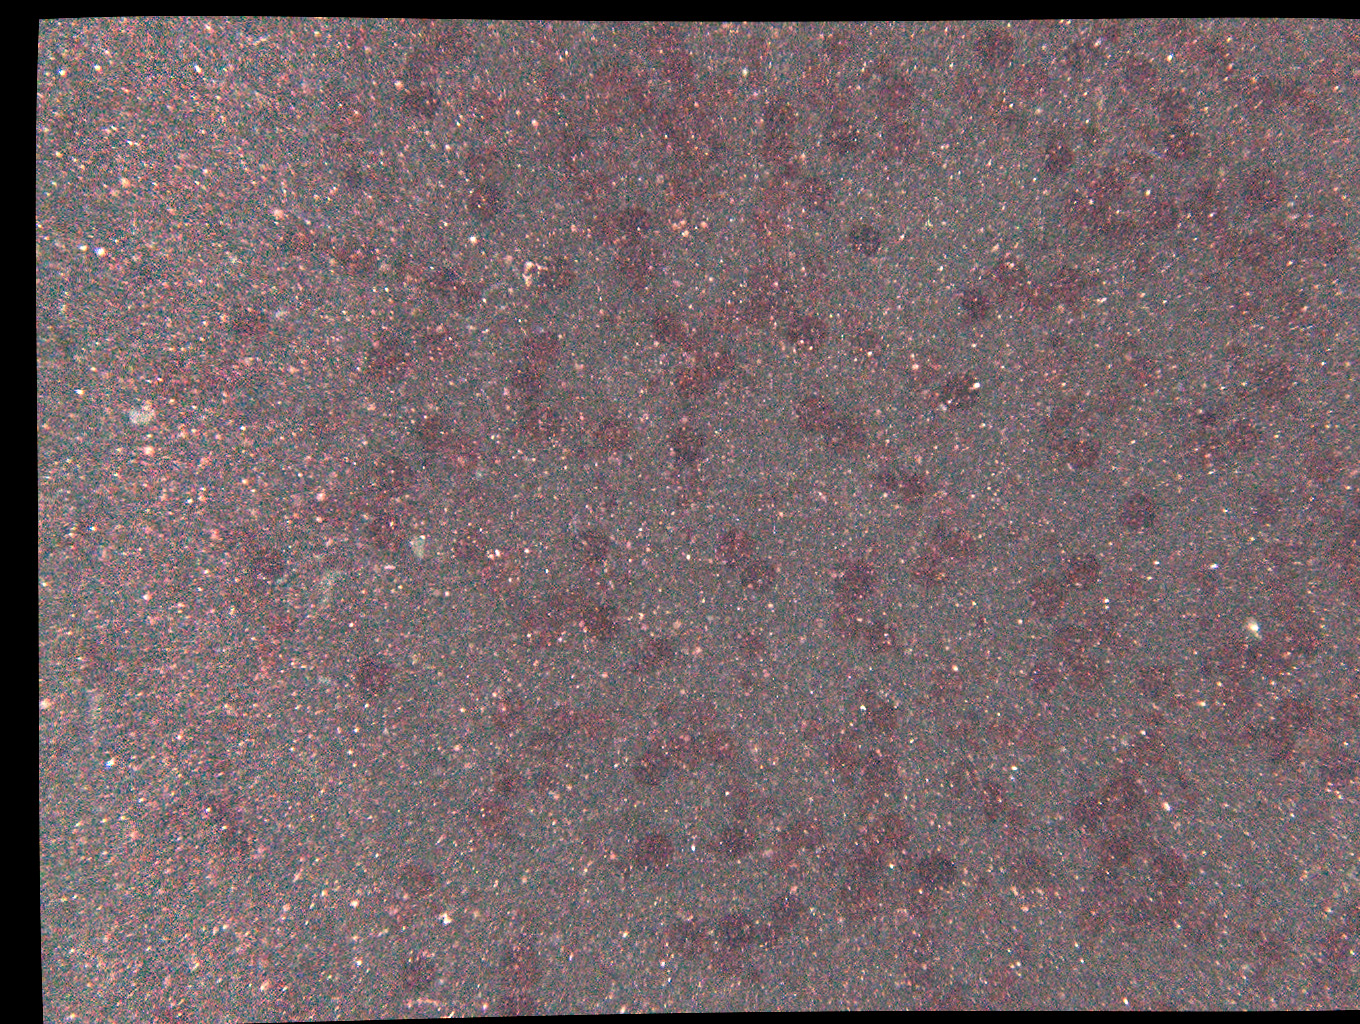Substrate A: (137, 44, 172, 79)
sand dollar: (925, 855, 972, 901), (1131, 879, 1178, 925), (1160, 854, 1207, 900), (1090, 840, 1137, 886), (1148, 657, 1196, 703), (1128, 726, 1175, 772), (1101, 771, 1148, 817), (1070, 795, 1117, 841), (1003, 853, 1050, 899), (961, 782, 1008, 828), (1019, 655, 1066, 701), (1061, 554, 1108, 600), (1056, 629, 1103, 675), (840, 612, 887, 658), (859, 693, 906, 739), (704, 913, 751, 959), (643, 924, 690, 970), (495, 977, 542, 1023), (460, 778, 507, 824), (467, 735, 514, 781), (646, 622, 693, 668), (583, 714, 630, 760), (617, 823, 664, 869), (857, 871, 904, 918), (860, 749, 907, 795), (818, 734, 865, 780), (860, 799, 907, 845), (1139, 24, 1186, 70), (1173, 893, 1220, 939), (1313, 736, 1360, 782), (1269, 679, 1316, 725), (1211, 681, 1258, 727), (1245, 635, 1292, 681), (1202, 634, 1249, 680), (1243, 352, 1290, 398), (1228, 415, 1275, 461), (1190, 425, 1237, 471), (1232, 484, 1279, 530), (1117, 498, 1164, 544), (1057, 430, 1104, 477), (1022, 566, 1069, 612), (764, 891, 811, 937), (391, 951, 438, 997), (478, 680, 525, 726), (778, 805, 825, 851), (1279, 430, 1326, 477), (937, 760, 985, 806), (732, 929, 779, 975), (485, 944, 532, 990), (524, 716, 571, 762), (675, 730, 722, 776), (632, 745, 679, 791), (724, 817, 771, 863), (846, 831, 893, 877), (1270, 587, 1317, 632), (1196, 49, 1243, 95), (1058, 362, 1105, 408), (1264, 715, 1311, 760), (643, 40, 689, 84), (664, 423, 707, 468), (917, 555, 960, 600), (940, 521, 983, 566), (832, 550, 875, 595), (664, 203, 707, 248), (850, 322, 893, 367), (835, 215, 878, 260), (353, 652, 396, 697), (467, 552, 510, 597), (527, 610, 570, 655), (584, 602, 627, 648), (742, 552, 785, 597), (721, 522, 764, 567), (798, 386, 841, 431), (576, 523, 619, 568), (587, 417, 630, 463), (461, 184, 504, 229), (703, 343, 746, 388), (727, 286, 770, 331), (643, 313, 686, 358), (619, 242, 662, 287), (530, 252, 573, 297), (380, 506, 423, 551), (377, 450, 420, 495), (421, 401, 464, 446), (517, 398, 560, 443), (504, 356, 547, 401), (525, 324, 568, 369), (953, 68, 996, 113), (972, 30, 1015, 75), (1022, 65, 1065, 110), (1142, 94, 1185, 139), (1157, 128, 1200, 173), (1092, 210, 1135, 255), (1301, 213, 1344, 258), (1252, 221, 1295, 266), (1217, 221, 1260, 266), (1242, 177, 1285, 223), (1196, 177, 1239, 223), (1147, 194, 1190, 239), (1037, 256, 1080, 301), (987, 257, 1030, 302), (1030, 125, 1073, 170), (899, 351, 942, 396), (943, 364, 986, 409), (950, 285, 993, 330), (878, 117, 921, 162), (851, 130, 894, 175), (660, 74, 703, 119), (699, 139, 742, 184), (670, 103, 713, 148), (611, 65, 654, 110), (872, 61, 915, 106), (843, 45, 886, 90), (791, 46, 834, 91), (751, 242, 794, 287), (814, 175, 857, 221), (760, 170, 803, 215), (762, 137, 805, 182), (760, 100, 803, 145), (528, 58, 571, 103), (576, 172, 619, 217), (556, 131, 599, 176), (456, 143, 499, 188), (427, 270, 470, 315), (416, 315, 459, 360), (366, 339, 409, 384), (321, 244, 364, 289), (403, 81, 446, 126), (337, 94, 380, 139), (237, 309, 280, 354), (276, 216, 319, 261), (235, 536, 278, 581), (273, 605, 316, 650), (178, 791, 221, 836), (883, 461, 926, 506), (785, 318, 828, 362), (443, 520, 486, 564), (612, 207, 655, 251), (1099, 79, 1142, 123), (1065, 177, 1108, 222), (811, 105, 854, 150), (639, 147, 682, 191), (576, 63, 619, 108), (461, 77, 504, 122), (392, 861, 433, 905)
